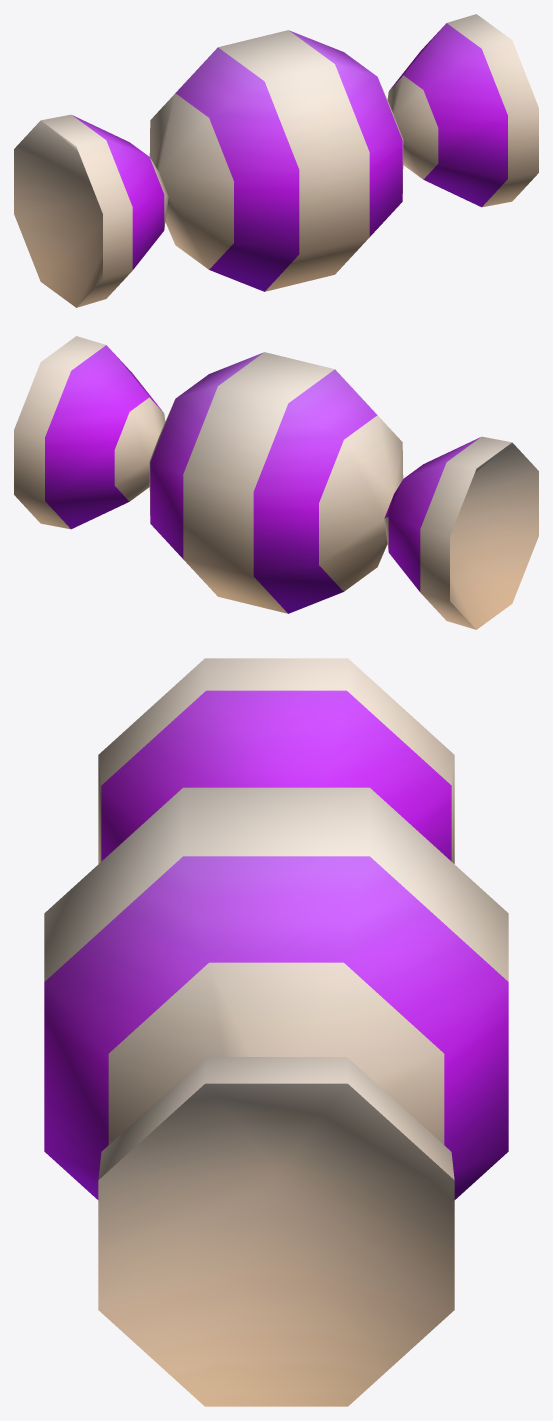
Rendered from candy_purple_a.glb.
The picture shows the model from 3 angles, top to bottom: view 1: azimuth 30°, elevation 25°; view 2: azimuth 150°, elevation 25°; view 3: azimuth 270°, elevation 25°; orthographic projection. The views are drawn at different scales.
Parts seen in each view (by area): view 1: candy_purple_A; view 2: candy_purple_A; view 3: candy_purple_A.
Boxes of the visible parts, x1,y1,x2,y2 form: candy_purple_A: [14, 14, 538, 307]; candy_purple_A: [14, 336, 538, 629]; candy_purple_A: [44, 658, 508, 1406].
Size of the model in its own units: 0.65 by 0.3 by 0.3.
Materials: 1 (1 with a texture image).
